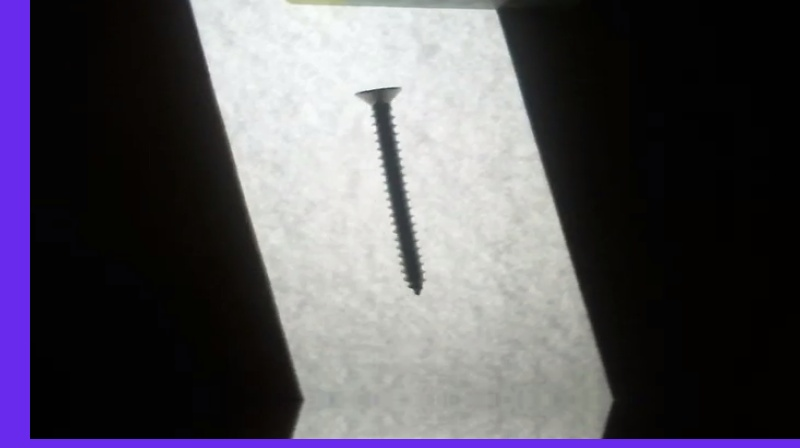S002: (350, 82, 425, 295)
